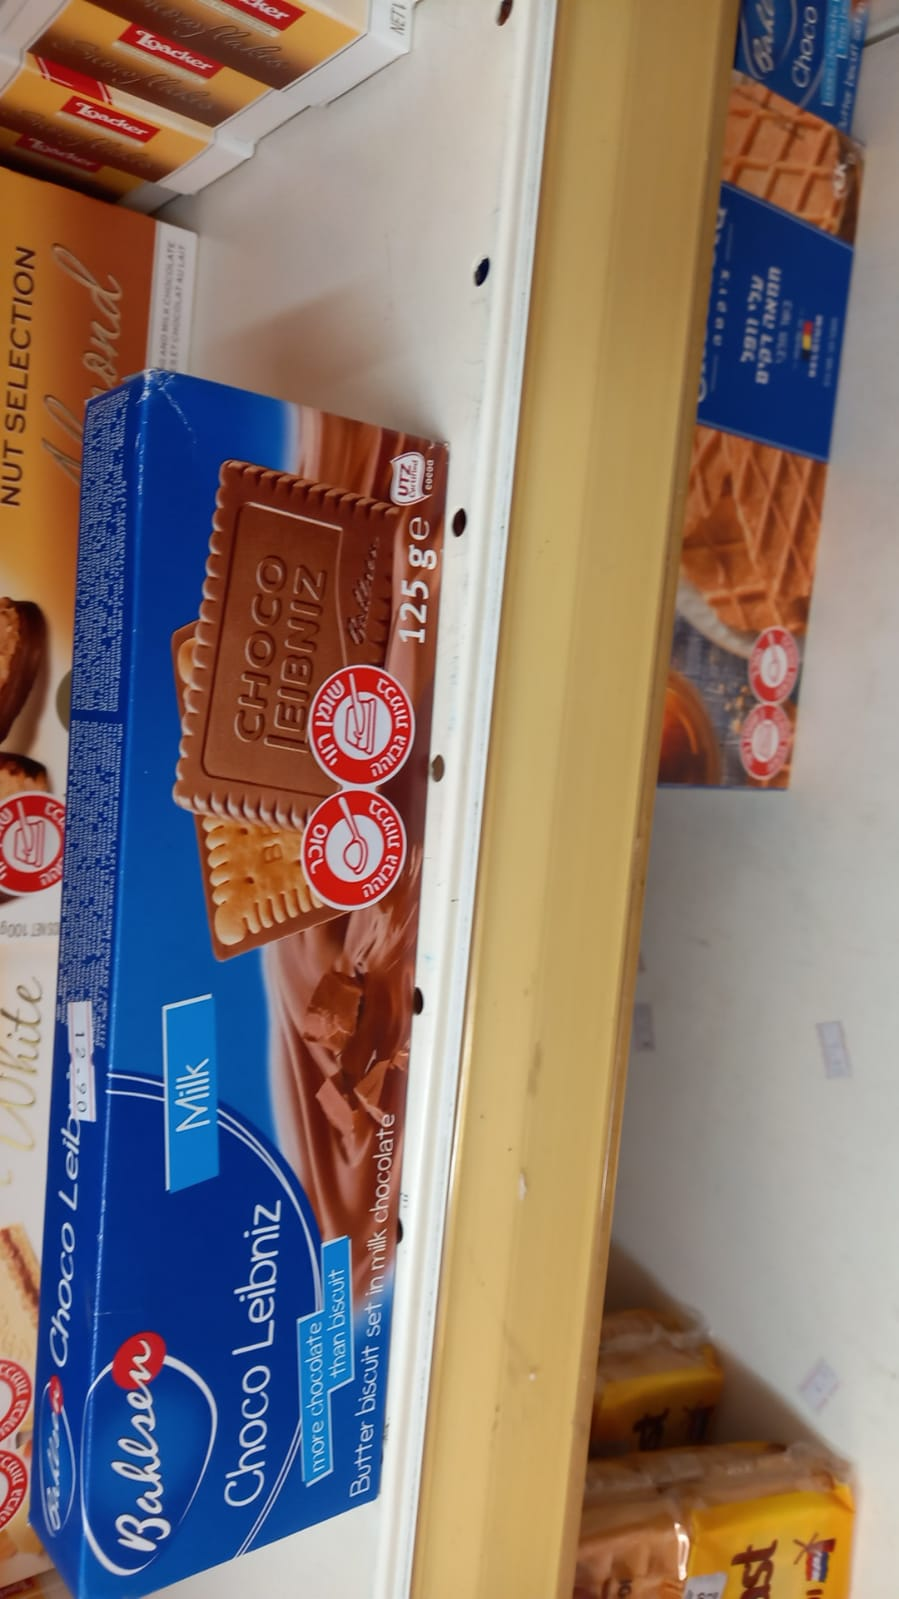fat: (305, 666, 415, 790), (1, 789, 71, 901), (733, 702, 793, 780)
sugar: (297, 792, 411, 917), (746, 629, 800, 702)
